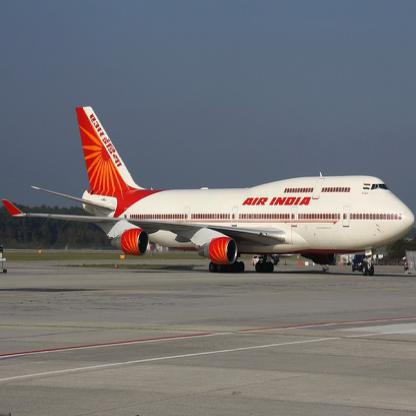CIV_Plane: (3, 104, 414, 274)
